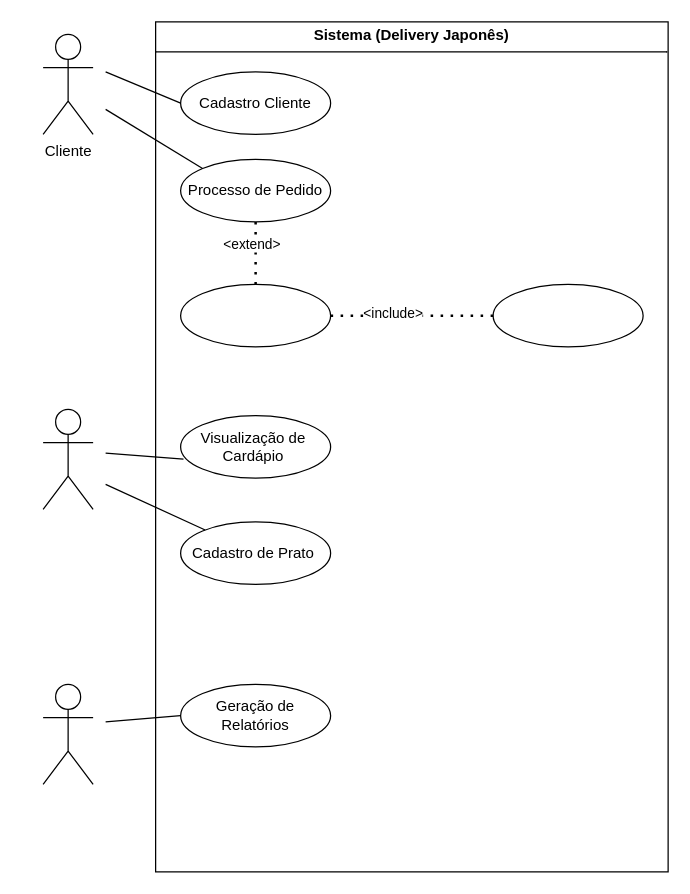
Image size: 690x894. Some labels were removed from this diagram. Each missing label, with the centre of its shape:
Adm. Sistema: the point at 67,733
Pré-avaliação do pedido: the point at 255,315
Restaurante: the point at 67,458
Sistema de Notificação: the point at 567,315
